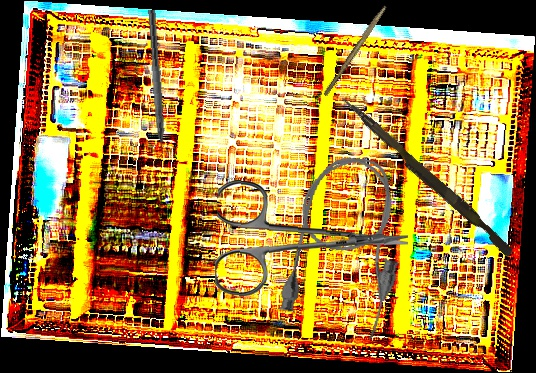Cannula: (275, 148, 418, 342)
Chopper: (137, 9, 169, 167)
Iris Scissors: (214, 179, 410, 303)
Pusher: (333, 94, 519, 258)
Scalpel Handle: (322, 3, 388, 98)
